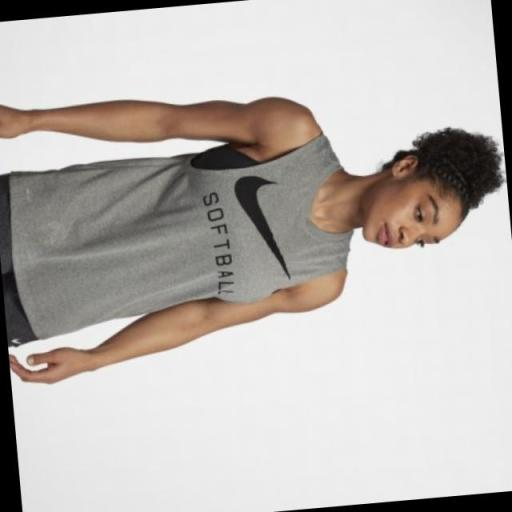Nike: (230, 168, 291, 290)
